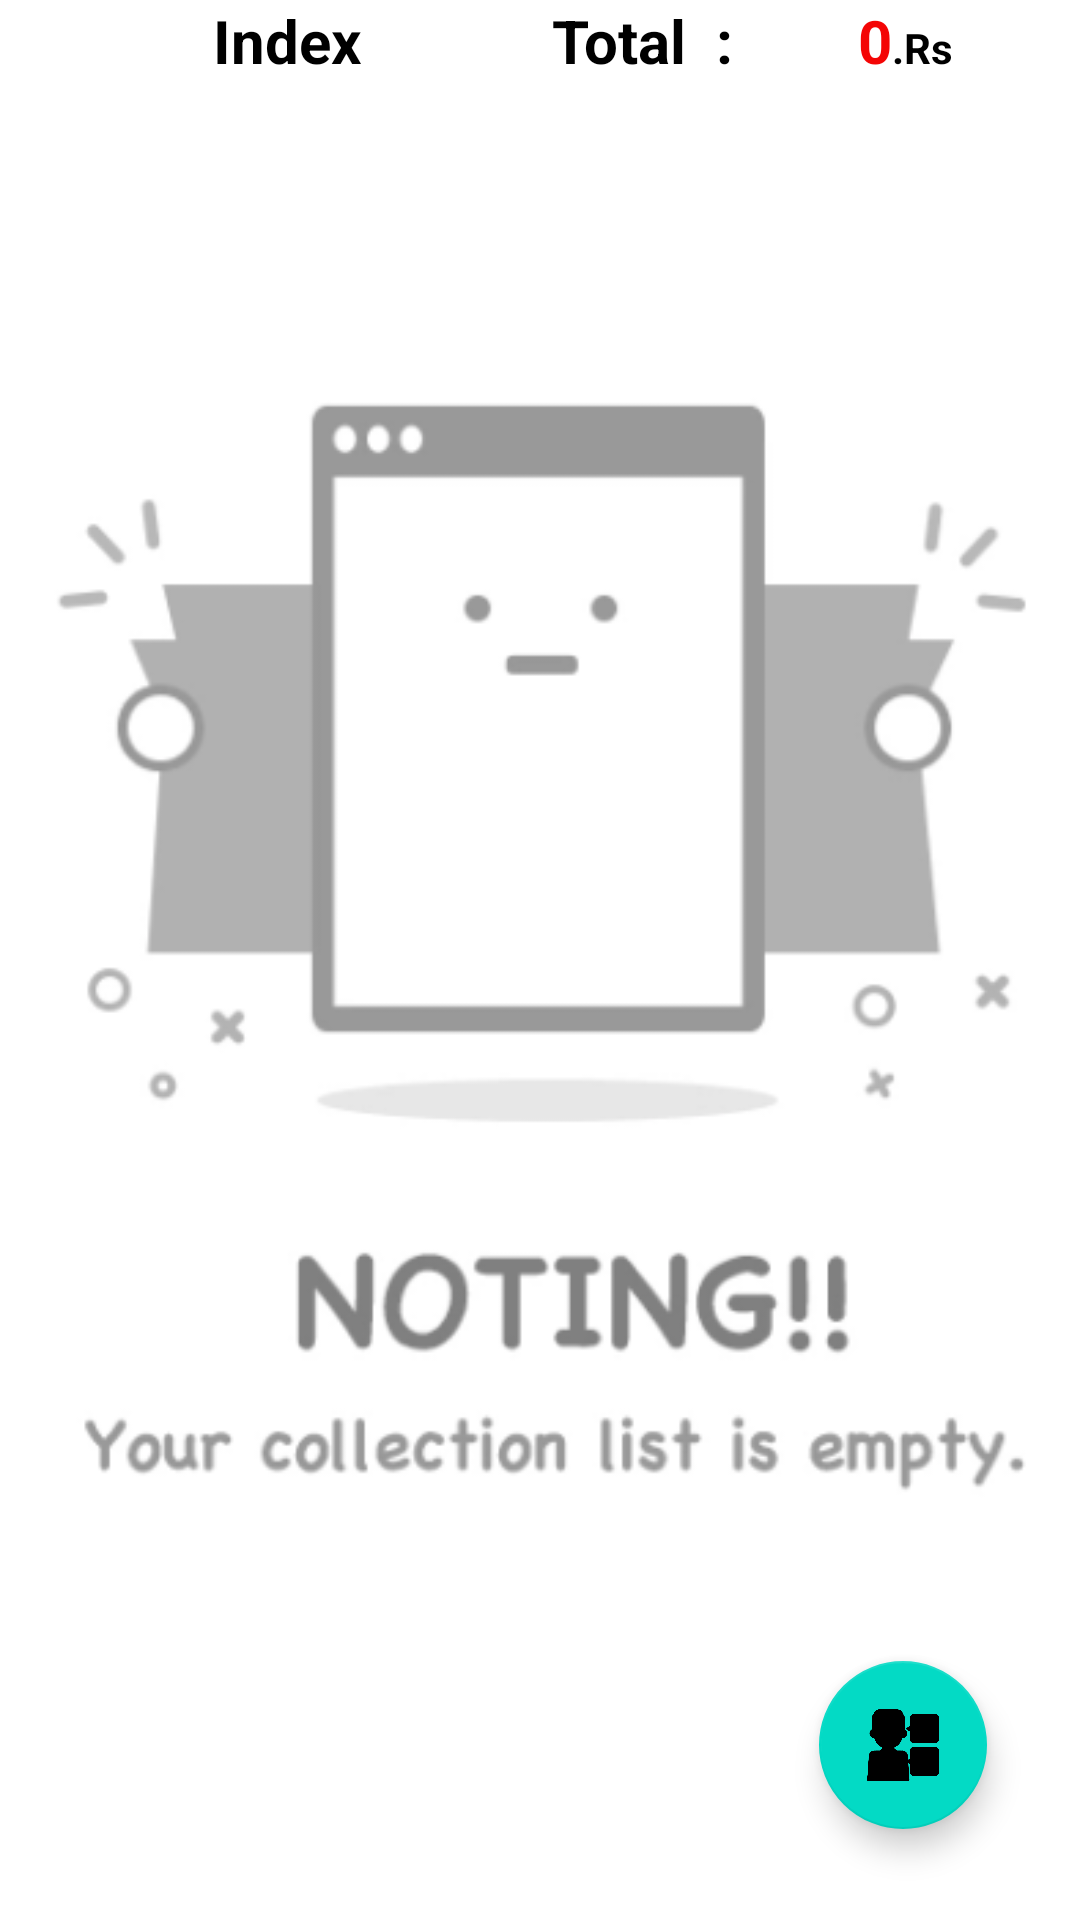

Locate icon controls on the screen. Image size 1080 x 1920, boxes as bbox(x1, y1, x2, y2).
executives: bbox(819, 1661, 987, 1829)
